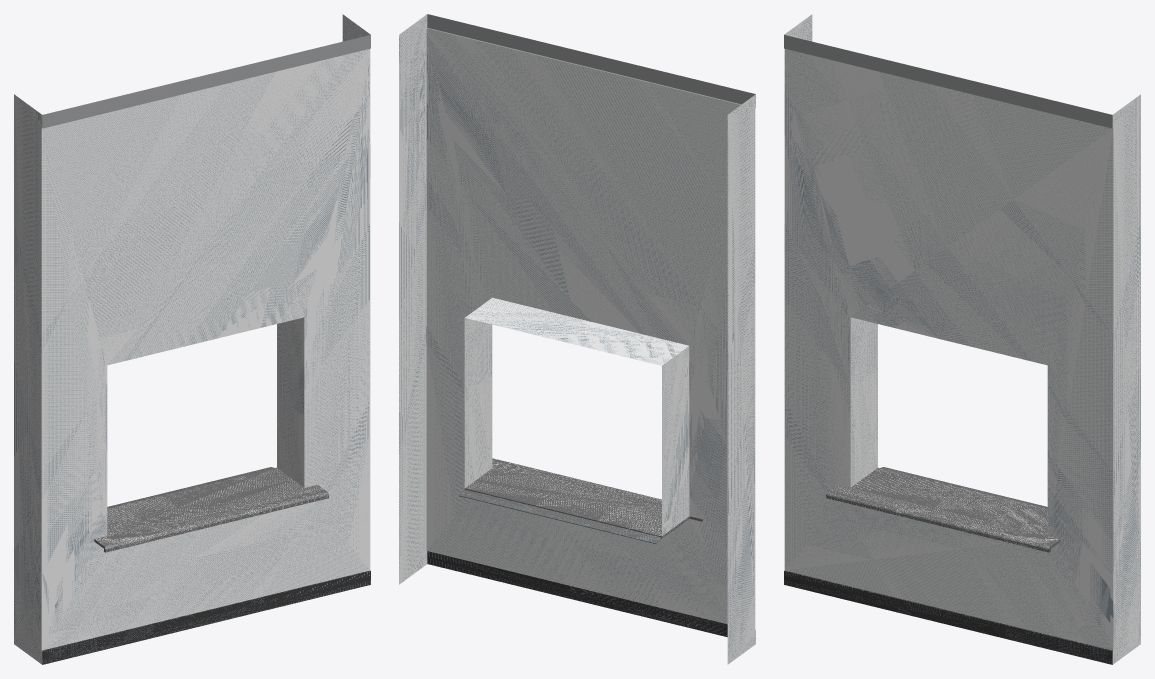
File: WindowBlock_os_plinth_[250x400]_150x124x[080].dae
3 views of the same model, side by side, from view 1: azimuth 30°, elevation 25°; view 2: azimuth 150°, elevation 25°; view 3: azimuth 330°, elevation 25° (orthographic).
Parts seen in each view (by area): view 1: group_2 (×4), group_1; view 2: group_2 (×4), group_1 (×2); view 3: group_2 (×4), group_1.
Boxes of the visible parts, x1,y1,x2,y2 form: group_2 (×4): [14, 14, 370, 664]; group_1: [94, 467, 328, 552]; group_2 (×4): [399, 14, 755, 664]; group_1 (×2): [459, 458, 702, 543]; group_2 (×4): [784, 14, 1140, 664]; group_1: [826, 467, 1060, 552].
Bounding box in the file's own units: 98.43 × 23.03 × 157.
